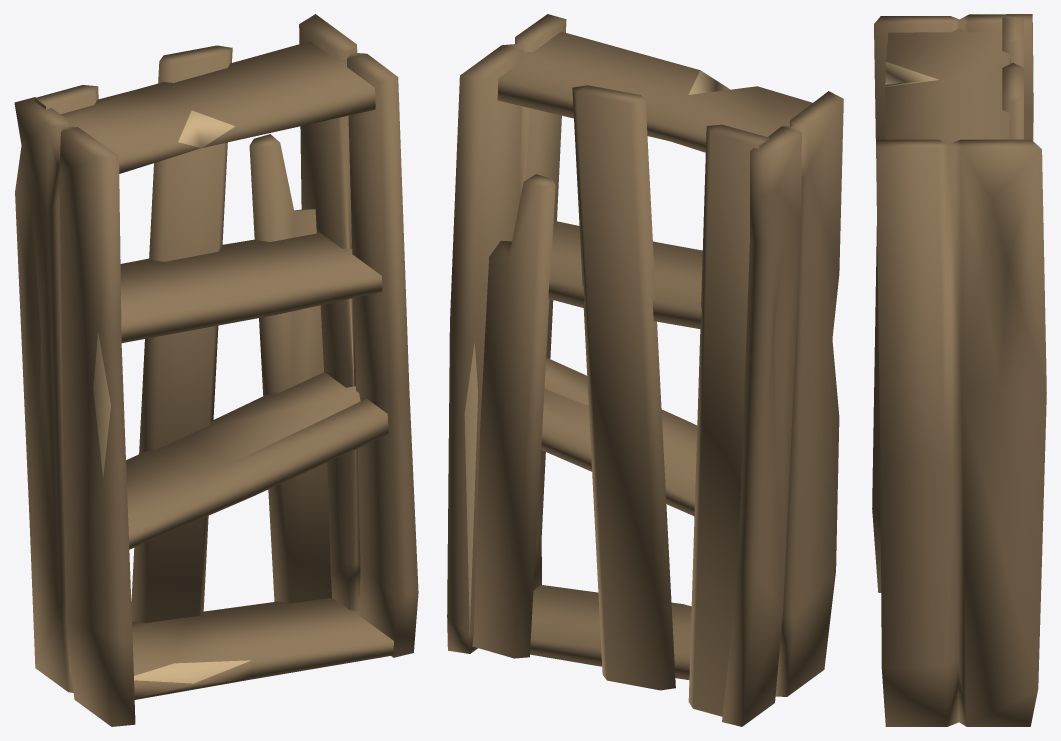
Rendered from rpgpp_av_shelf_wood_03a.gltf.
3 views of the same model, side by side, from view 1: azimuth 30°, elevation 25°; view 2: azimuth 150°, elevation 25°; view 3: azimuth 270°, elevation 25° (orthographic). The views are drawn at different scales.
Visible parts, largest first — view 1: rpgpp_av_shelf_wood_03a; view 2: rpgpp_av_shelf_wood_03a; view 3: rpgpp_av_shelf_wood_03a.
Part boxes in pixels (x1,y1,x2,y2): rpgpp_av_shelf_wood_03a: (14,14,418,726); rpgpp_av_shelf_wood_03a: (447,14,843,726); rpgpp_av_shelf_wood_03a: (872,14,1046,726).
Size of the model in its own units: 0.0111 by 0.0192 by 0.00527.
Materials: 1 (1 with a texture image).
